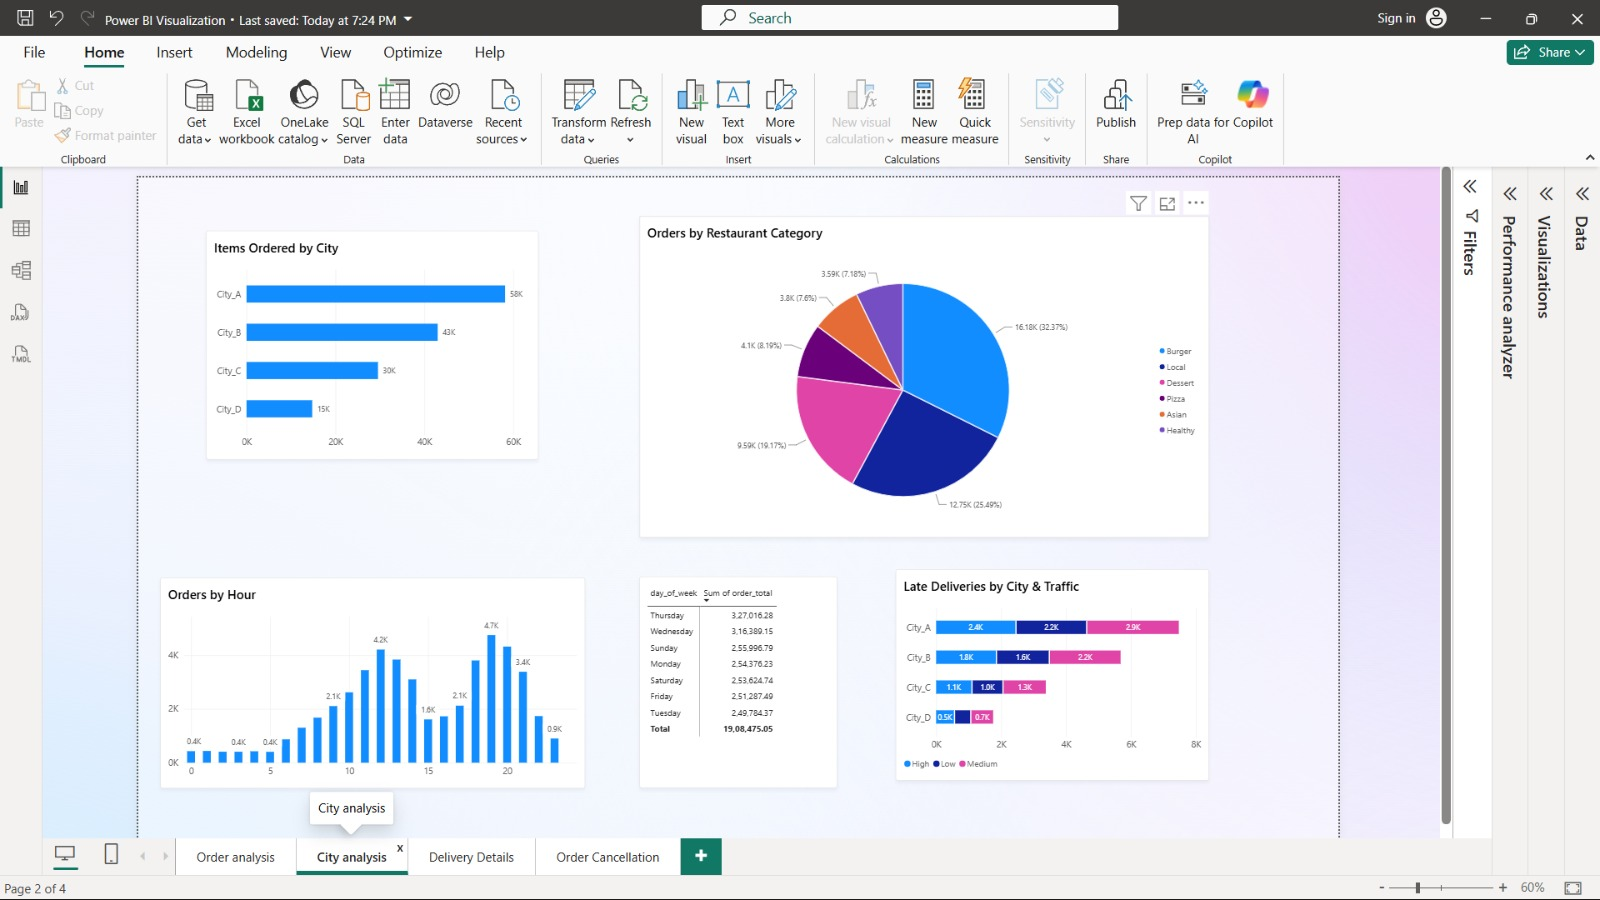

What the dashboard file says about the page in this screenshot:
{"tool":"powerbi","page":{"name":"City analysis ","canvas":[1920,1080],"ordinal":1},"visuals":[{"type":"barChart","title":"Items Ordered by City","fields":{"Category":["Main_Sheet.city"],"Y":["Sum(Main_Sheet.items_count)"]},"box":[108.3,85,531.7,366.7],"z":0},{"type":"pieChart","title":"Orders by Restaurant Category","fields":{"Category":["Main_Sheet.restaurant_primary_category"],"Y":["CountNonNull(Main_Sheet.city)"]},"box":[801.7,61.7,911.7,515],"z":1000},{"type":"lineClusteredColumnComboChart","title":"Orders by Hour","fields":{"Category":["Main_Sheet.order_hour"],"Y":["Main_Sheet.Total Orders"]},"box":[35,640,680,337.5],"z":2000},{"type":"pivotTable","fields":{"Rows":["Main_Sheet.day_of_week"],"Values":["Sum(Main_Sheet.order_total)"]},"box":[801.7,638.3,316.7,338.3],"z":3000},{"type":"barChart","title":"Late Deliveries by City & Traffic","fields":{"Category":["Main_Sheet.city"],"Series":["Main_Sheet.traffic_level"],"Y":["Sum(Main_Sheet.late_delivery)"]},"box":[1211.7,626.7,501.7,338.3],"z":4000}]}

Visuals, with their boxes on the page's 1920x1080 design canvas (x1, y1, x2, y2). These are canvas units, not pixel positions in the 1600x900 screenshot, which may show the page scaled, cropped or inside an application window:
"Items Ordered by City" barChart: l=108, t=85, r=640, b=452
"Orders by Restaurant Category" pieChart: l=802, t=62, r=1713, b=577
"Orders by Hour" lineClusteredColumnComboChart: l=35, t=640, r=715, b=978
pivotTable - Main_Sheet.day_of_week x Sum(Main_Sheet.order_total): l=802, t=638, r=1118, b=977
"Late Deliveries by City & Traffic" barChart: l=1212, t=627, r=1713, b=965
